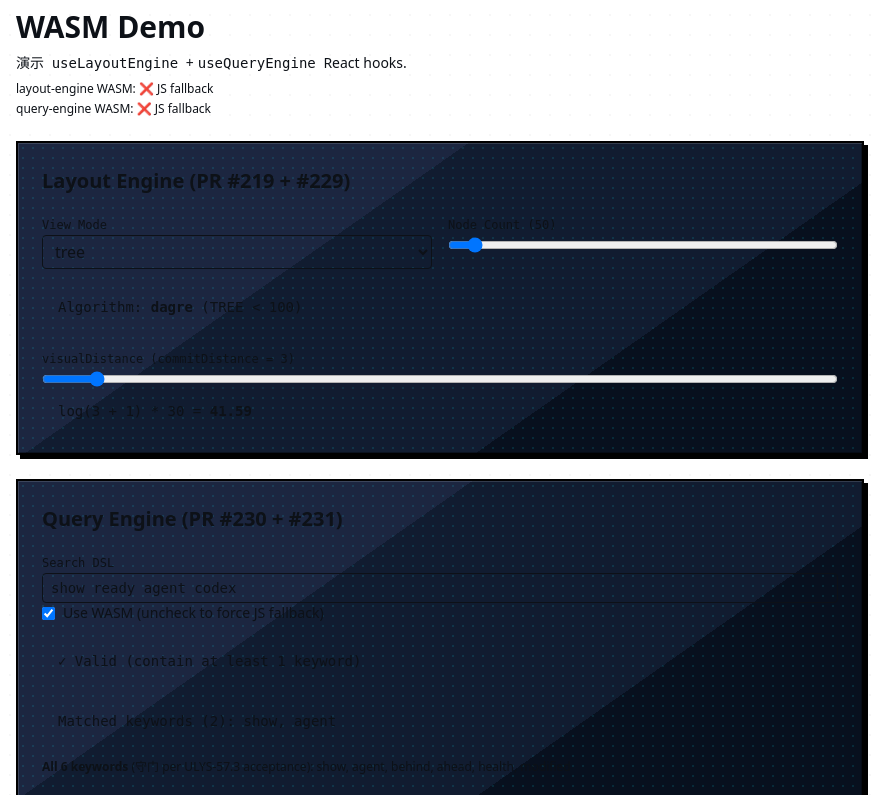
it: WasmDemoPage › agent + 100 nodes → elk, agent + 30 → d3_force
The image size is (885, 795).
Select "agent" in the dropdown with test id "wasm-demo-view-mode": [237, 252] box [42, 235, 432, 269]
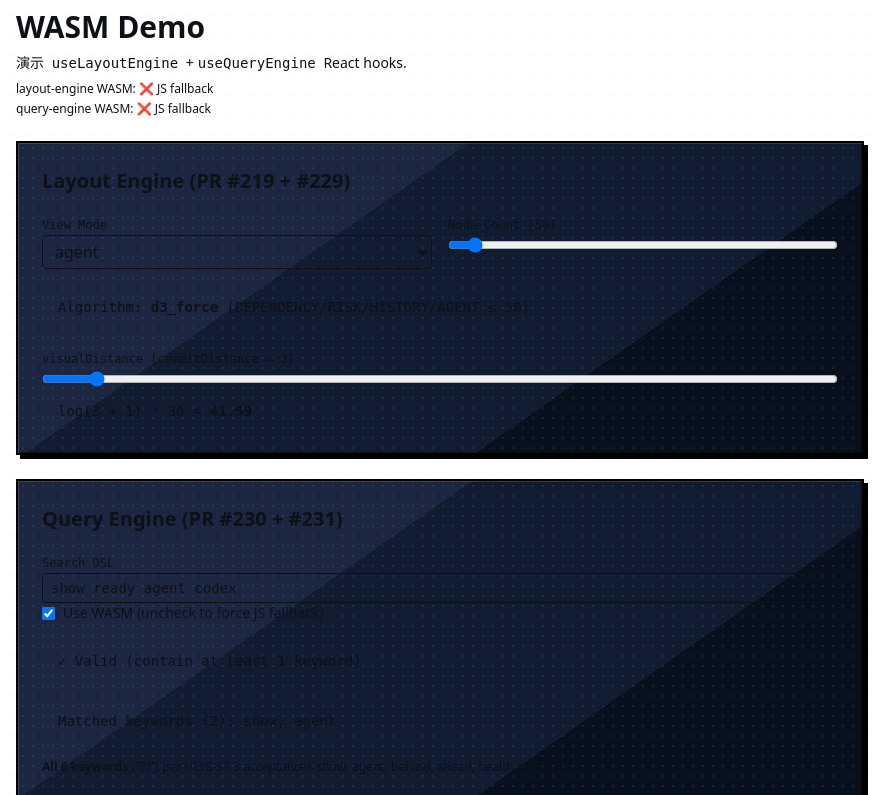
Set the slider with test id "wasm-demo-node-count" to "100": [493, 245] box [448, 237, 838, 253]
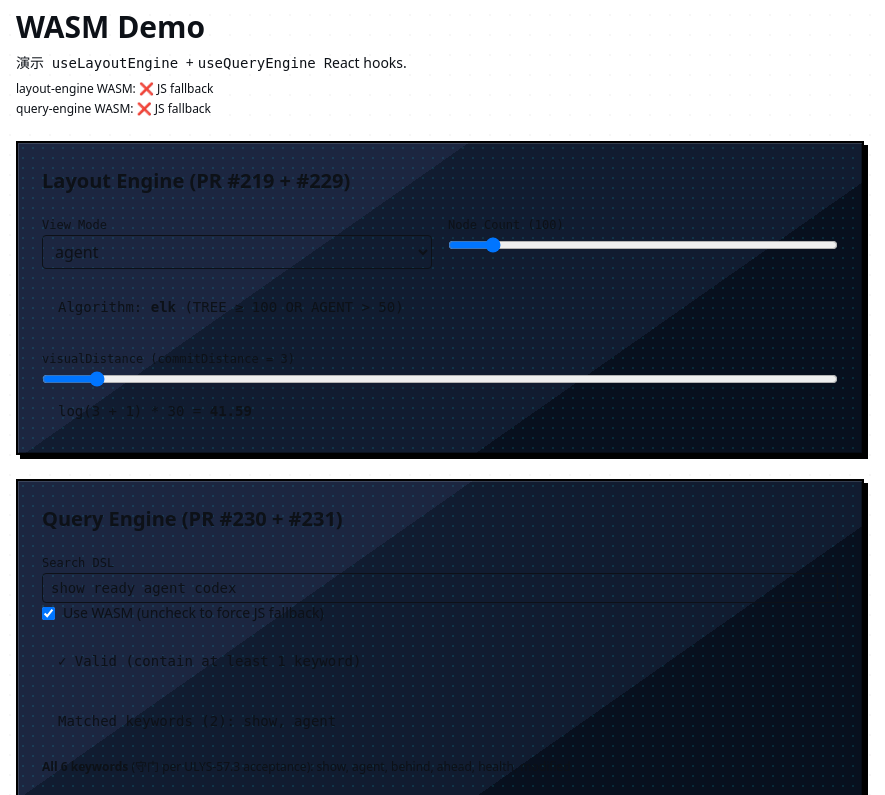
Expected: the element with test id "wasm-demo-layout-result" shows "elk", [151, 299, 176, 315]
Set the slider with test id "wasm-demo-node-count" to "30": [467, 245] box [448, 237, 838, 253]
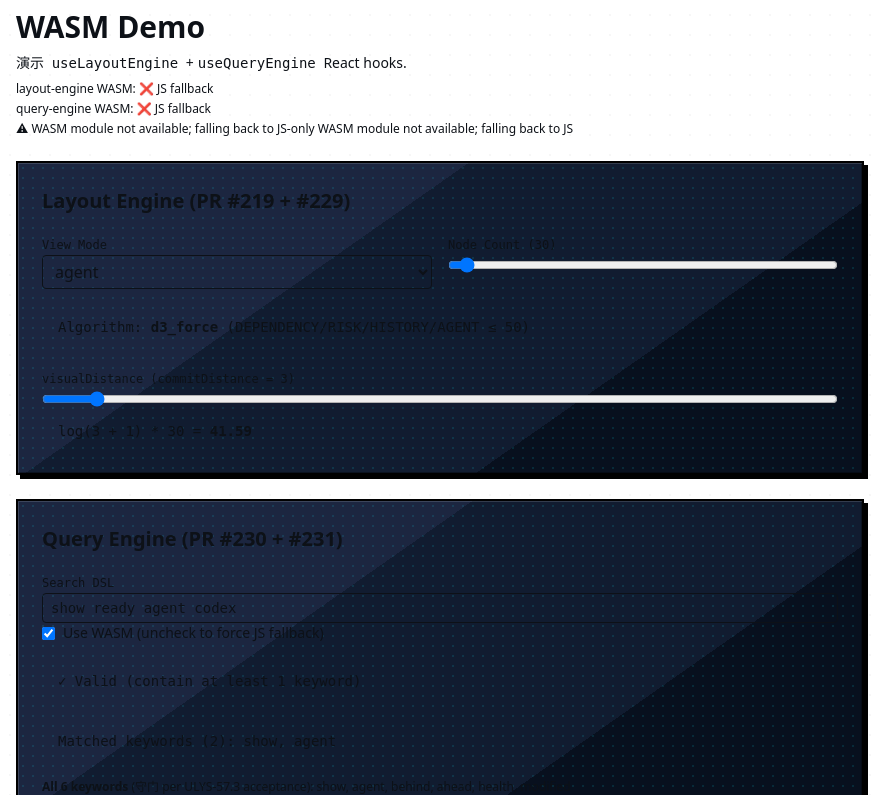
Expected: the element with test id "wasm-demo-layout-result" shows "d3_force", [151, 319, 218, 335]
